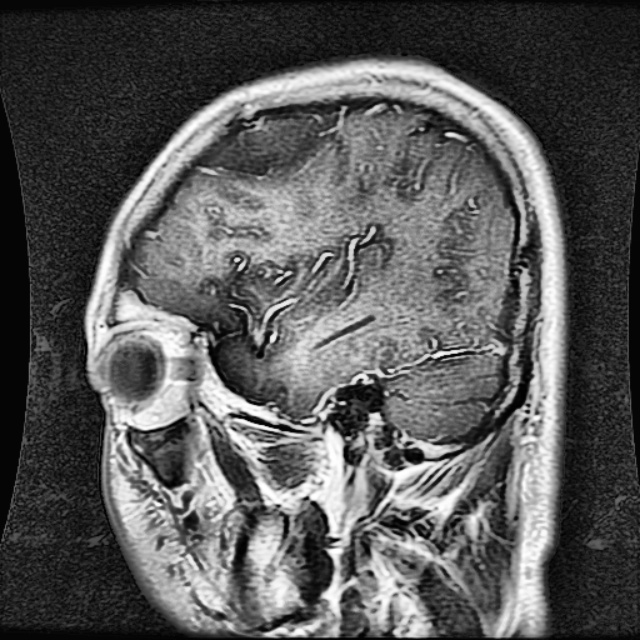Meningioma: (202, 115, 340, 168)
